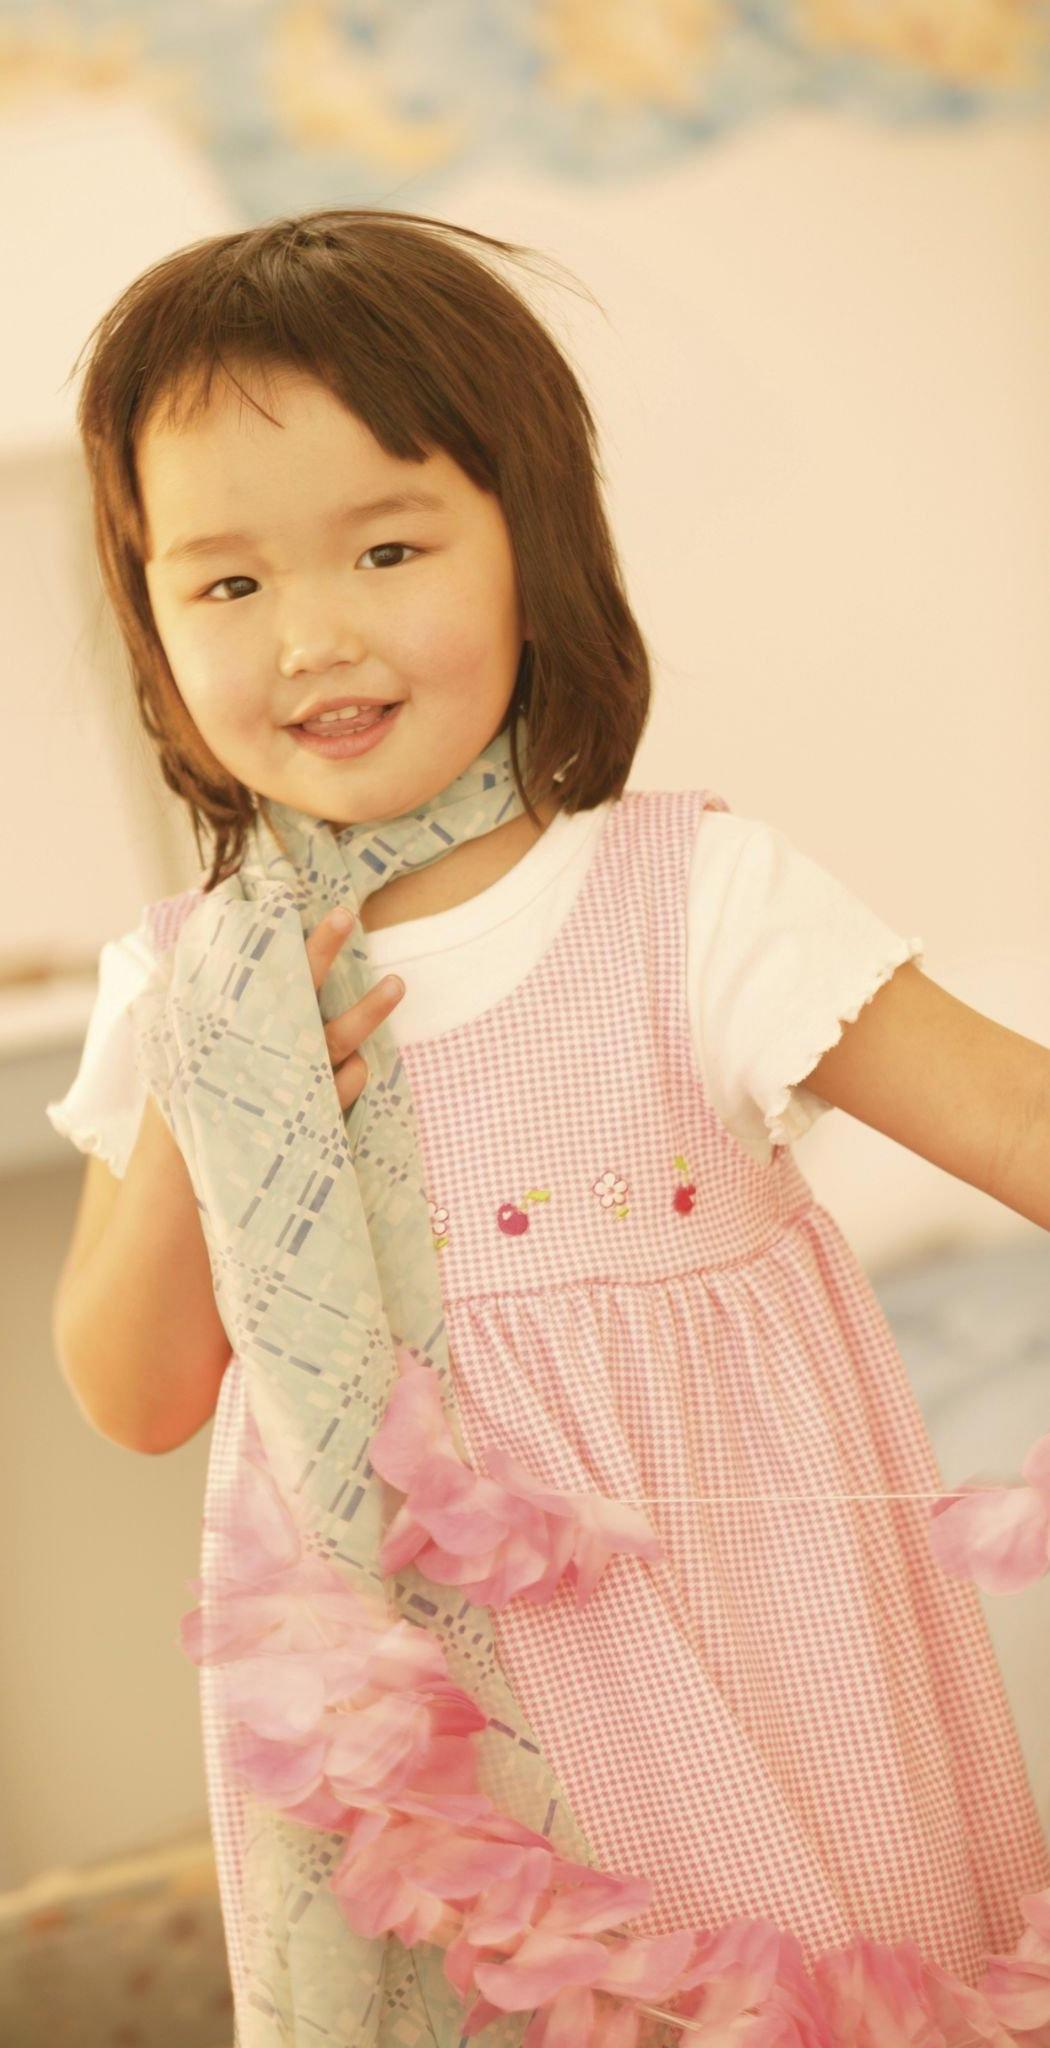Healthy: (52, 312, 592, 873)
